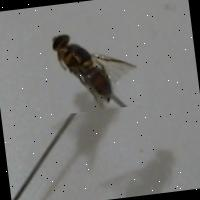Oriental-fruit-fly: (40, 11, 147, 116)
